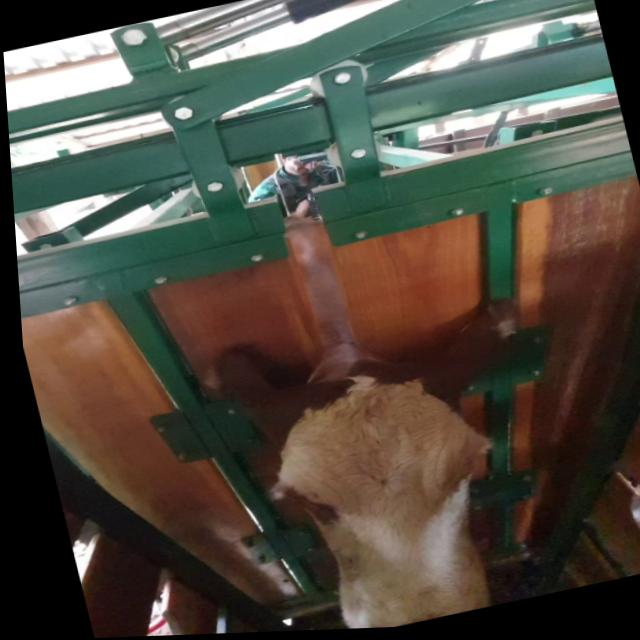cowFace: (256, 360, 513, 633)
